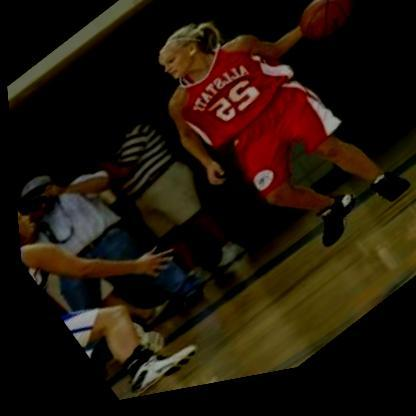basketball: (283, 0, 366, 69)
